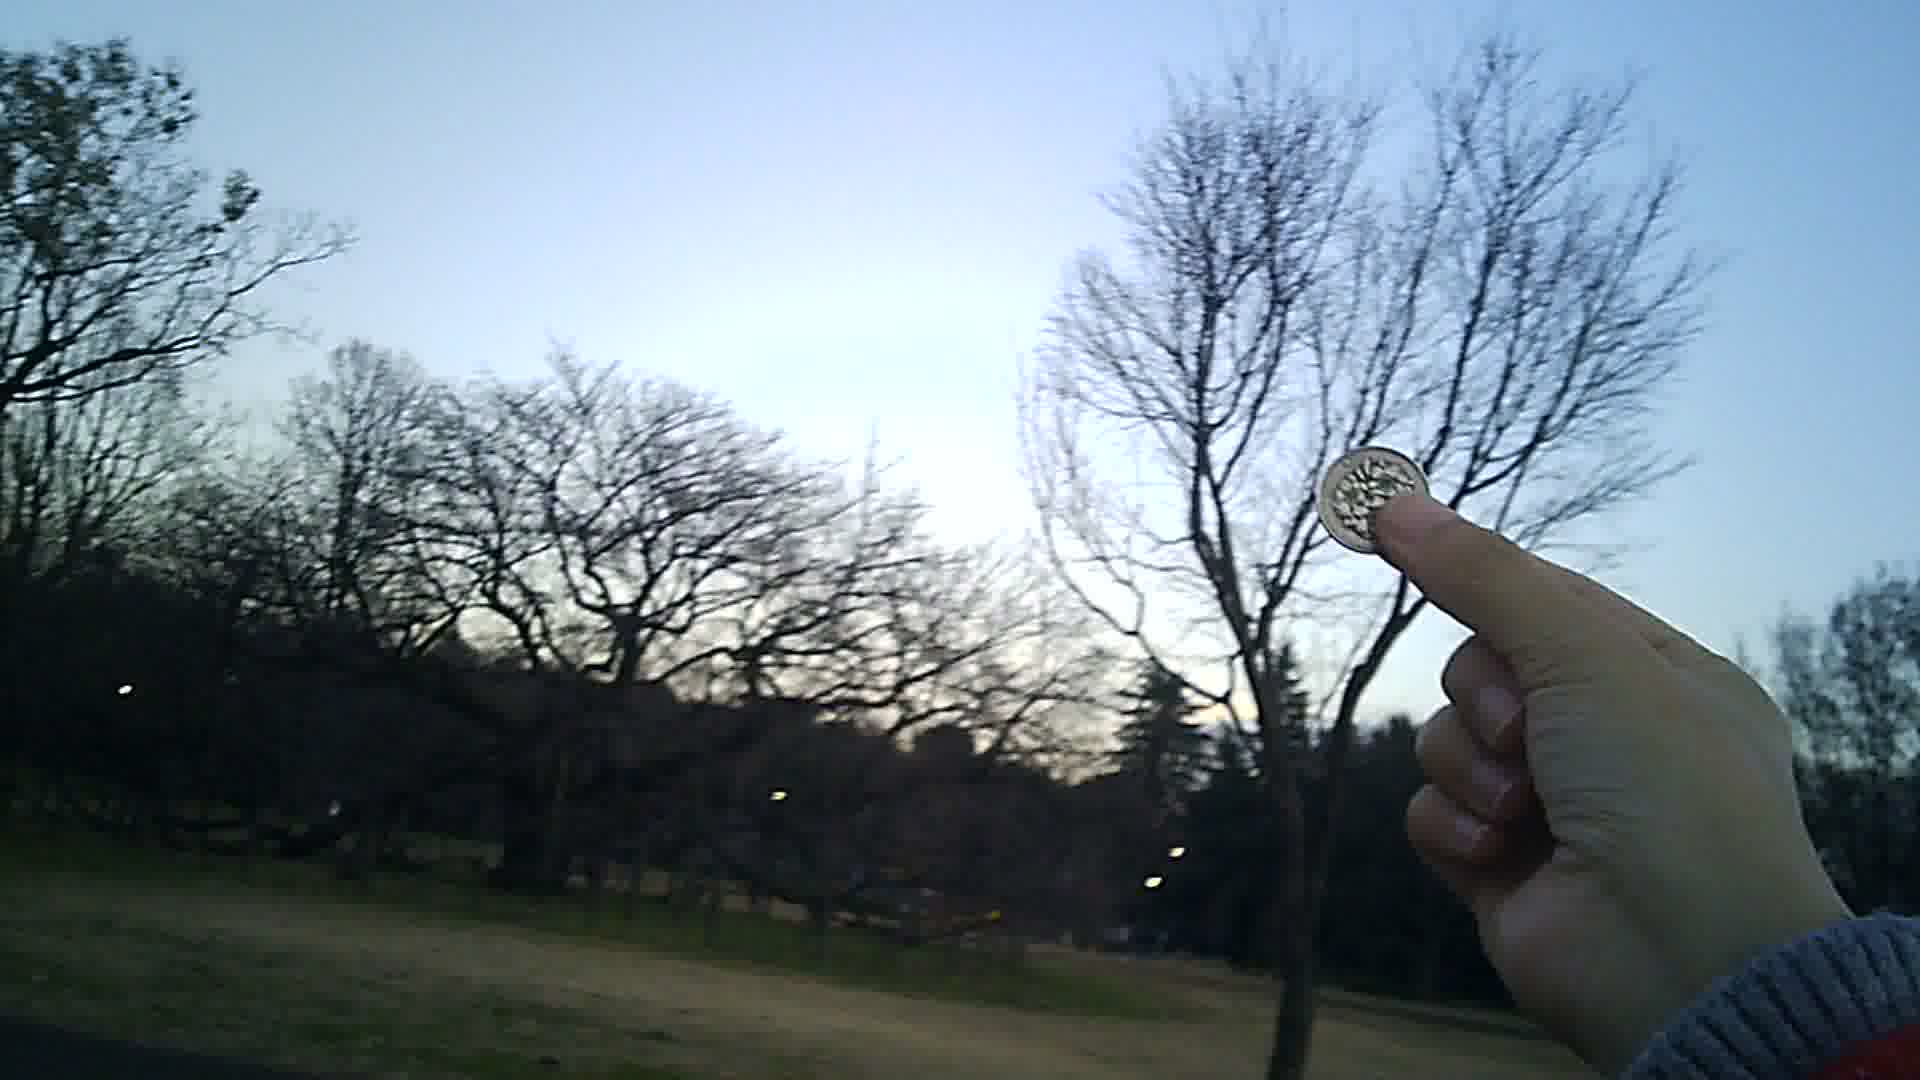100 Yen: (1315, 442, 1432, 556)
